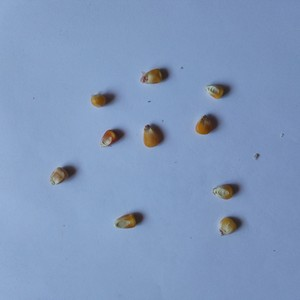maiz: (141, 122, 165, 148), (193, 114, 218, 136), (218, 214, 240, 239), (138, 65, 162, 87), (112, 212, 140, 230), (49, 165, 69, 187), (209, 182, 233, 200), (98, 127, 116, 148), (205, 82, 225, 100), (88, 93, 108, 108)
